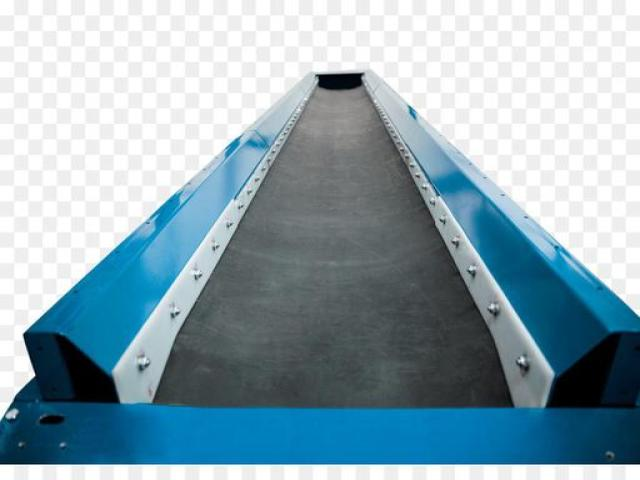conveyor: (0, 66, 639, 465)
